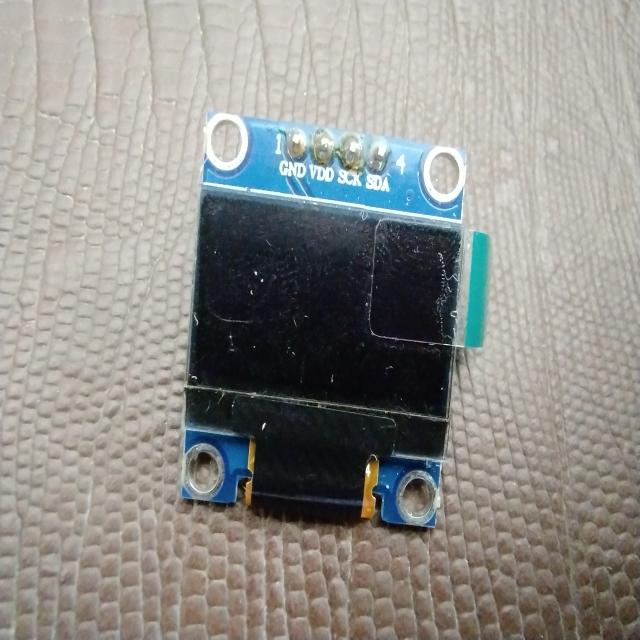oled: (186, 105, 497, 538)
